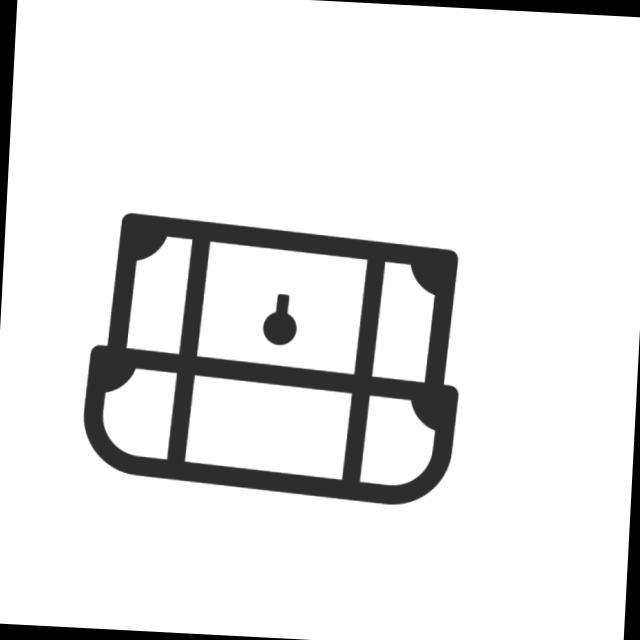treasure_box: (77, 207, 471, 510)
